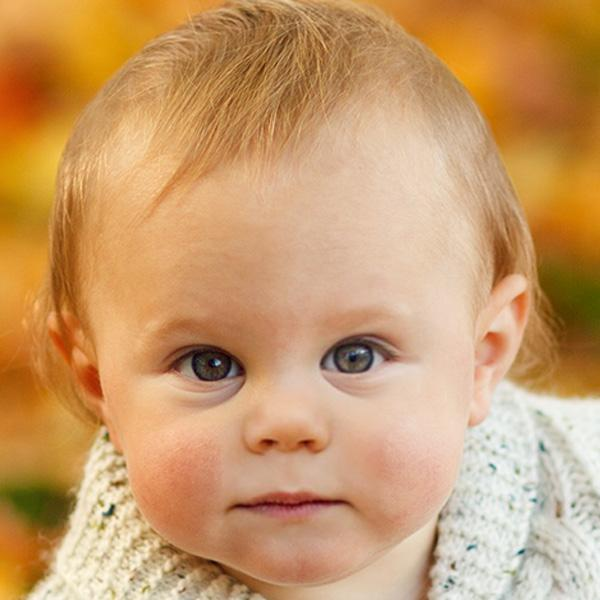Eyes: (307, 322, 410, 395), (149, 332, 255, 400)
